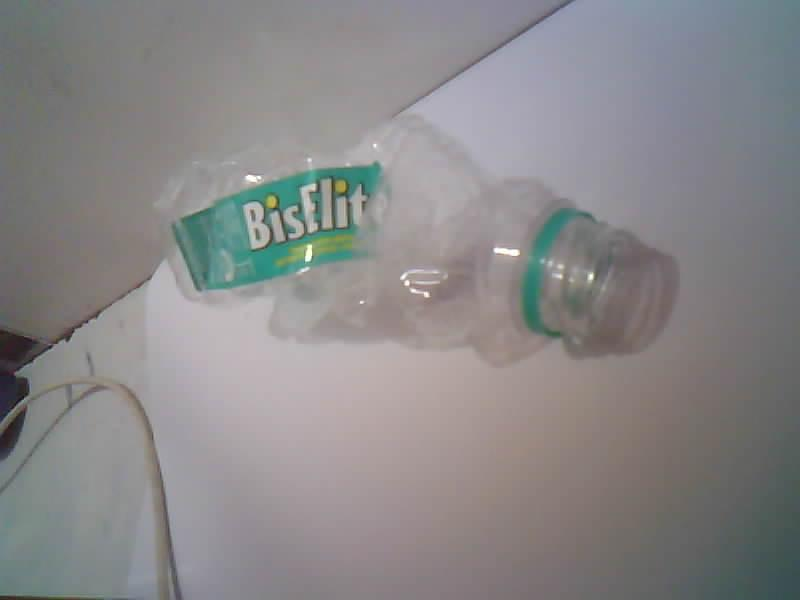non-biodegradable: (158, 115, 676, 364)
